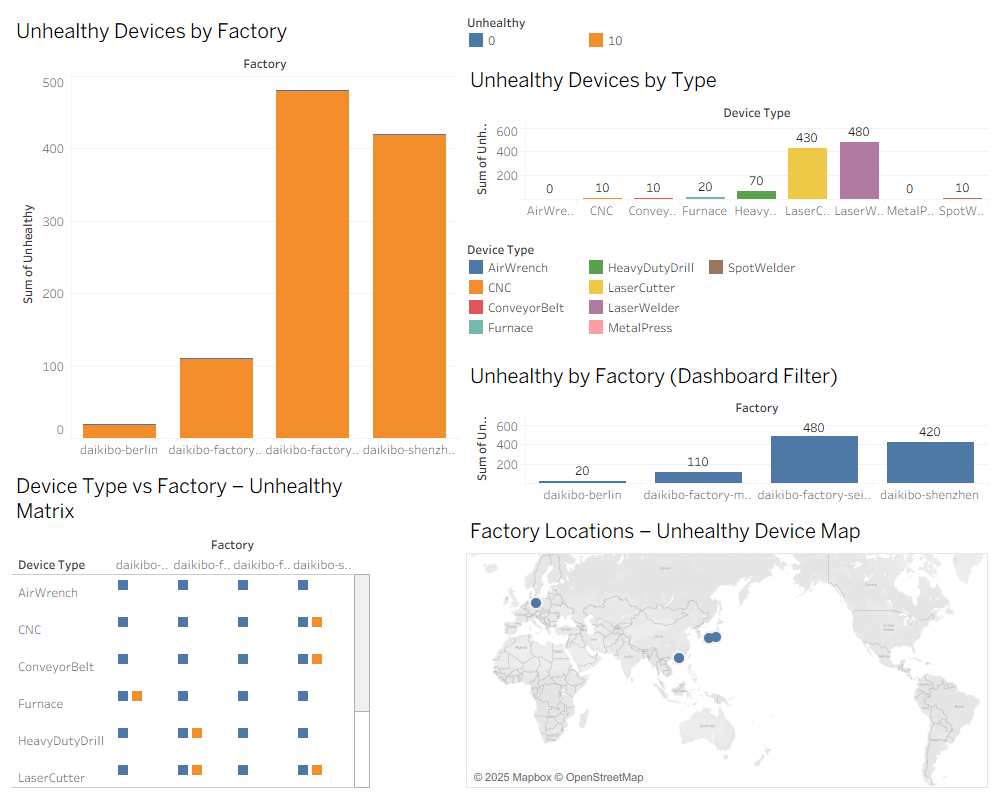

The page's visual inventory and layout, read from the dashboard file:
{"tool":"tableau","page":{"name":"Dashboard 1","canvas":[1000,800],"ordinal":0},"visuals":[{"type":"worksheet","title":"Sheet 1","mark":"Automatic","rows":["Calculation_1074671499163242496"],"cols":["factory"],"box":[8,8,454,455]},{"type":"legend","title":"Sheet 1","param":"[federated.16ksj331rd6o9v11eiv07163jr34].[none:Calculation_1074671499163242496:o","box":[462,8,530,49]},{"type":"worksheet","title":"Sheet 2","mark":"Automatic","rows":["Calculation_1074671499163242496"],"cols":["deviceType"],"box":[462,57,530,178]},{"type":"legend","title":"Sheet 2","param":"[federated.16ksj331rd6o9v11eiv07163jr34].[none:deviceType:nk]","box":[462,235,530,118]},{"type":"worksheet","title":"Sheet 3","mark":"Automatic","rows":["Calculation_1074671499163242496"],"cols":["factory"],"box":[462,353,530,155]},{"type":"worksheet","title":"Sheet 4","mark":"Square","rows":["deviceType"],"cols":["factory"],"box":[8,463,454,329]},{"type":"worksheet","title":"Sheet 5","mark":"Circle","box":[462,508,530,284]}]}

Visuals, with their boxes in screenshot pixels (x1, y1, x2, y2), scaled from the page's 1000x800 canvas onto the 1000x800 screenshot:
"Sheet 1" worksheet: 8 8 462 463
"Sheet 1" legend: 462 8 992 57
"Sheet 2" worksheet: 462 57 992 235
"Sheet 2" legend: 462 235 992 353
"Sheet 3" worksheet: 462 353 992 508
"Sheet 4" worksheet (Square marks): 8 463 462 792
"Sheet 5" worksheet (Circle marks): 462 508 992 792
